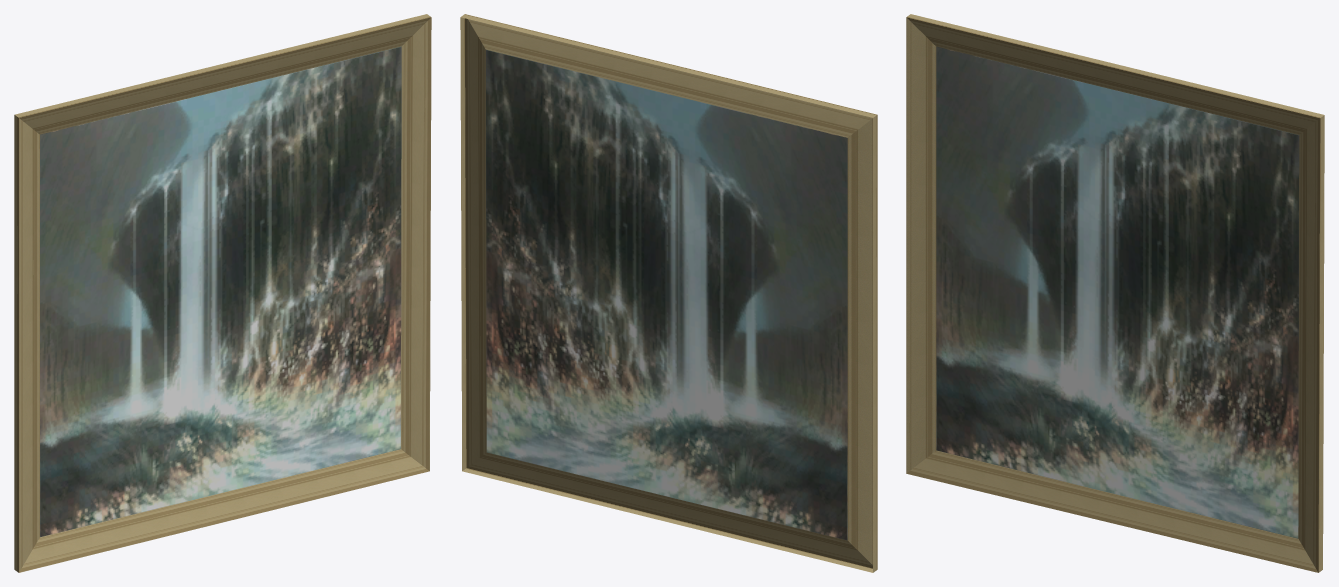
File: frn_all_painting_square_sm_s02.fbx
The picture shows the model from 3 angles, left to right: view 1: azimuth 30°, elevation 25°; view 2: azimuth 150°, elevation 25°; view 3: azimuth 330°, elevation 25°; orthographic projection.
Visible parts, largest first — view 1: mesh_node; view 2: mesh_node; view 3: mesh_node.
Boxes of the visible parts, x1,y1,x2,y2 form: mesh_node: (14,14,431,572); mesh_node: (460,14,877,572); mesh_node: (906,14,1324,572).
Bounding box in the file's own units: 1.36 × 1.43 × 0.0254.
Materials: 2 (2 with a texture image).
